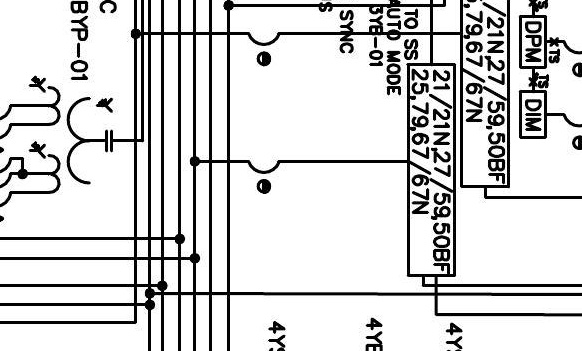115_cvt_3p: (28, 75, 113, 195)
DIM: (519, 90, 548, 140)
DPM: (519, 15, 548, 70)
